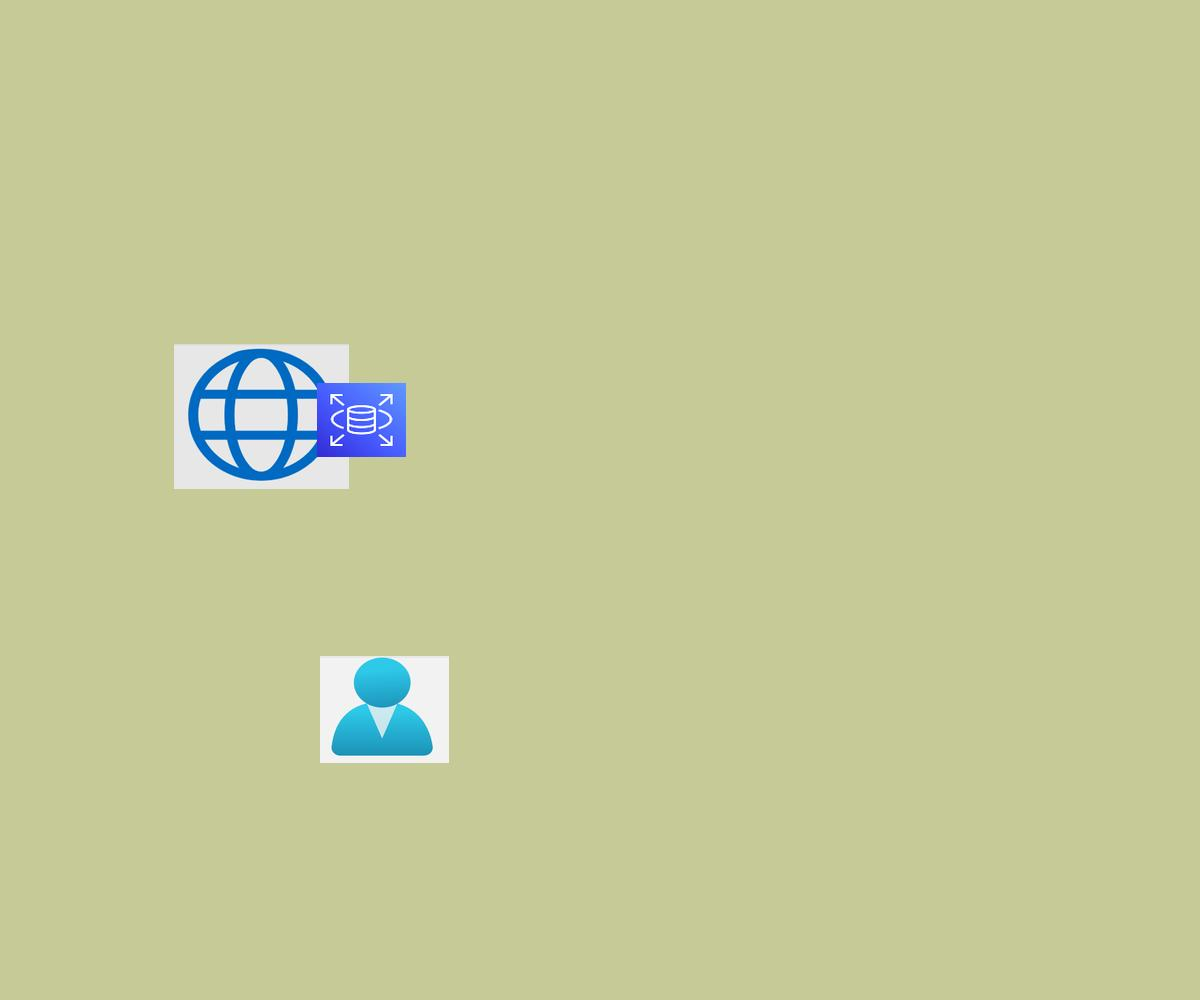AWS-RDS: (317, 383, 406, 457)
Azure_http: (174, 344, 349, 489)
Azure_users: (320, 656, 449, 763)
